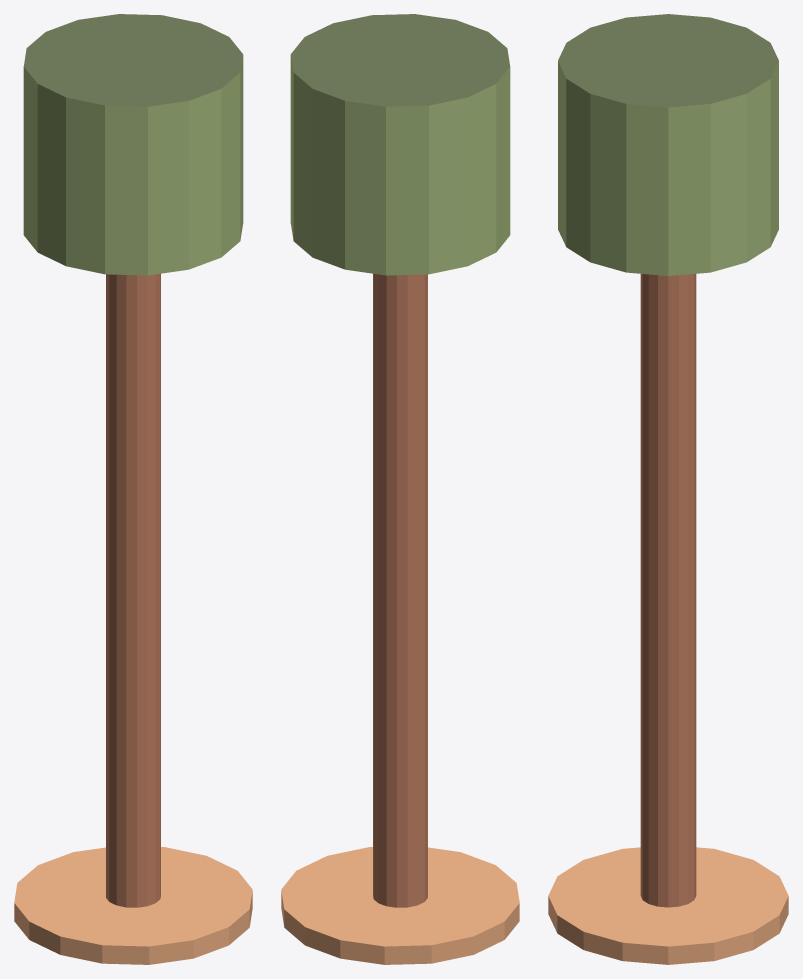
Rendered from BigLamp2.glb.
The picture shows the model from 3 angles, left to right: view 1: azimuth 30°, elevation 25°; view 2: azimuth 150°, elevation 25°; view 3: azimuth 270°, elevation 25°; orthographic projection.
Visible parts, largest first — view 1: BigLamp2; view 2: BigLamp2; view 3: BigLamp2.
Boxes of the visible parts, <box> form: BigLamp2: <box>14,14,252,964</box>; BigLamp2: <box>281,14,519,964</box>; BigLamp2: <box>548,14,788,964</box>.
Size of the model in its own units: 0.2891 by 1.13 by 0.2891.
1 material, 1 textured.
